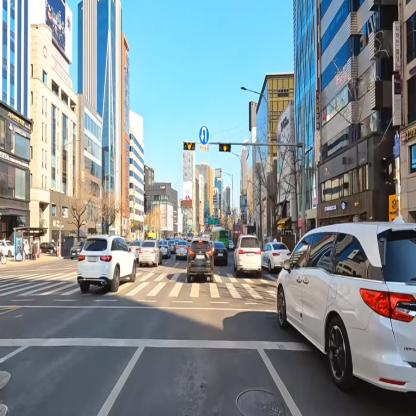Yellow: (181, 138, 197, 155), (219, 142, 231, 152)
